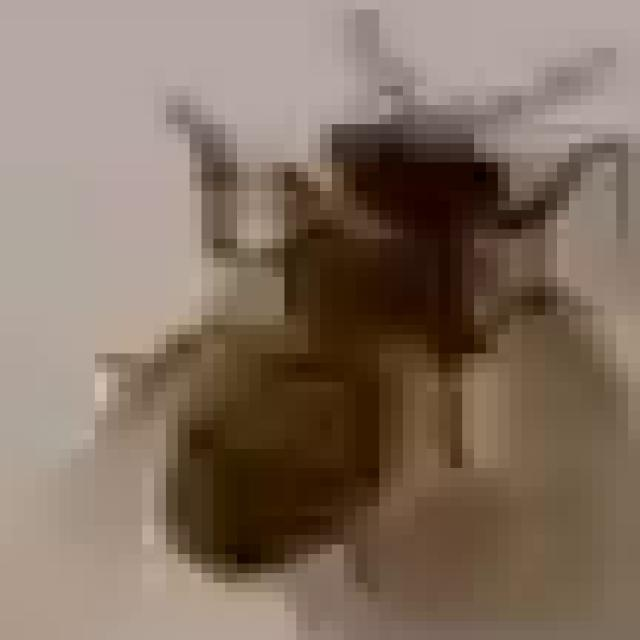honeybee: (103, 23, 626, 621)
